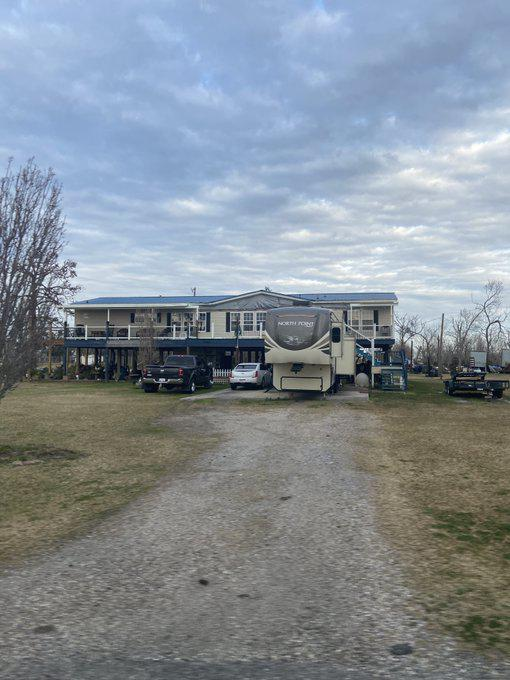minor: (54, 287, 420, 395)
